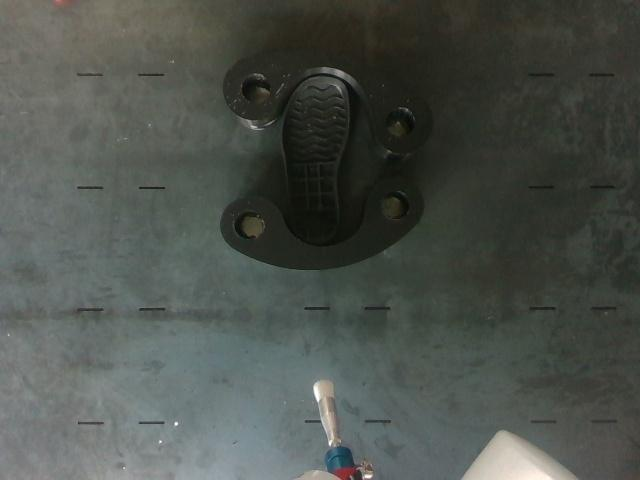shoes: (284, 77, 349, 242)
